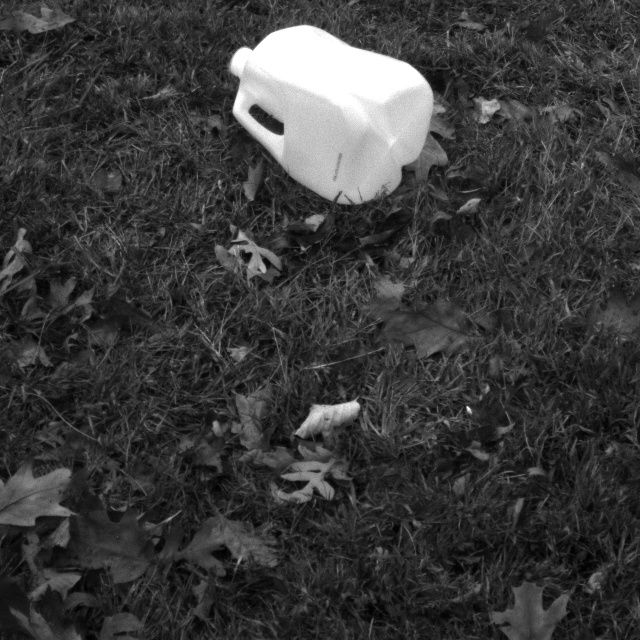can: (207, 7, 448, 224)
